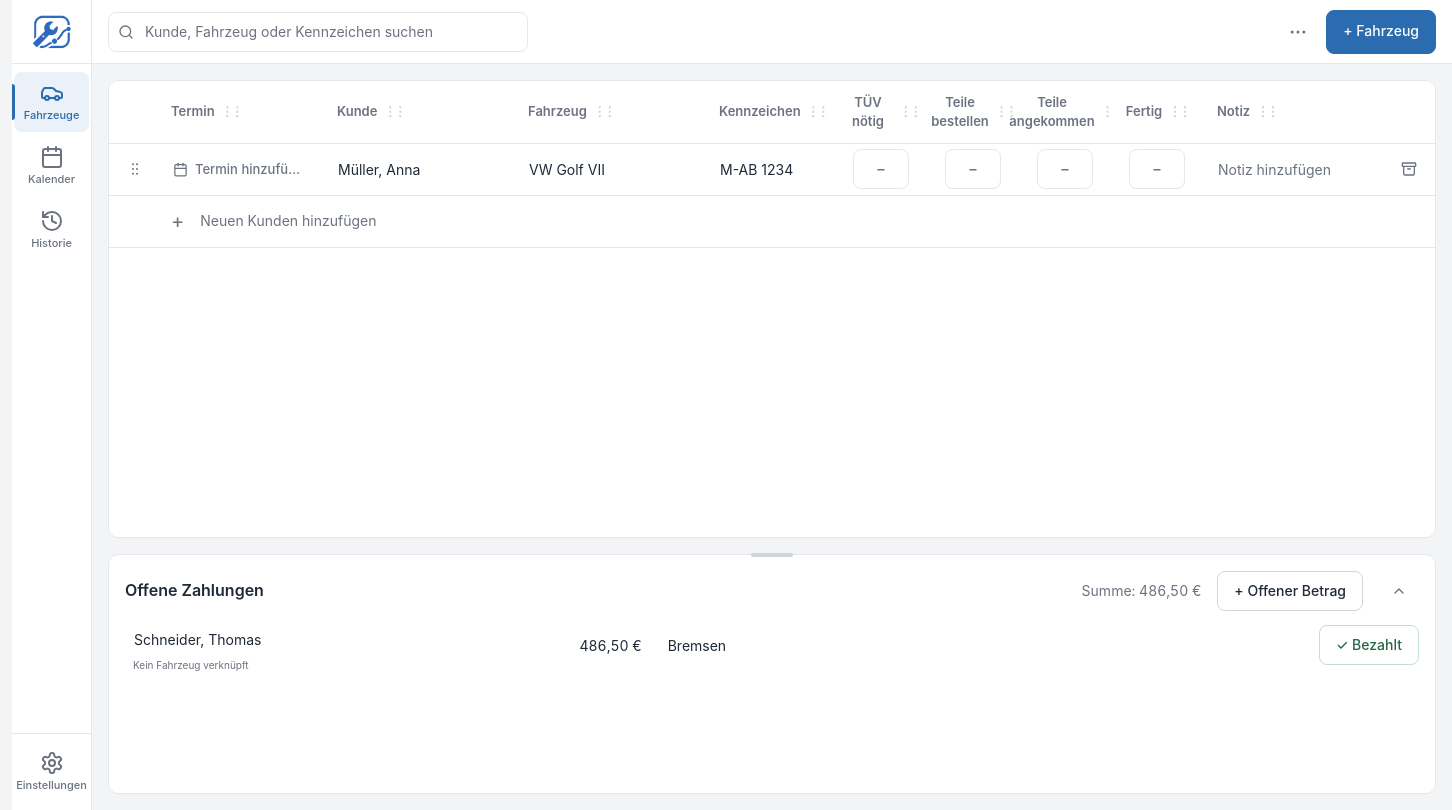
Test: Versteckter Bereich: Einträge › zeigt vorhandene Einträge entschlüsselt an
The image size is (1452, 810).
Check: the field showing "Müller, Anna" is shown, box [329, 149, 508, 189]
Press the mouse on the element with class "app-logo" at (52, 32), box [32, 12, 72, 52]
Wait 3000 ms
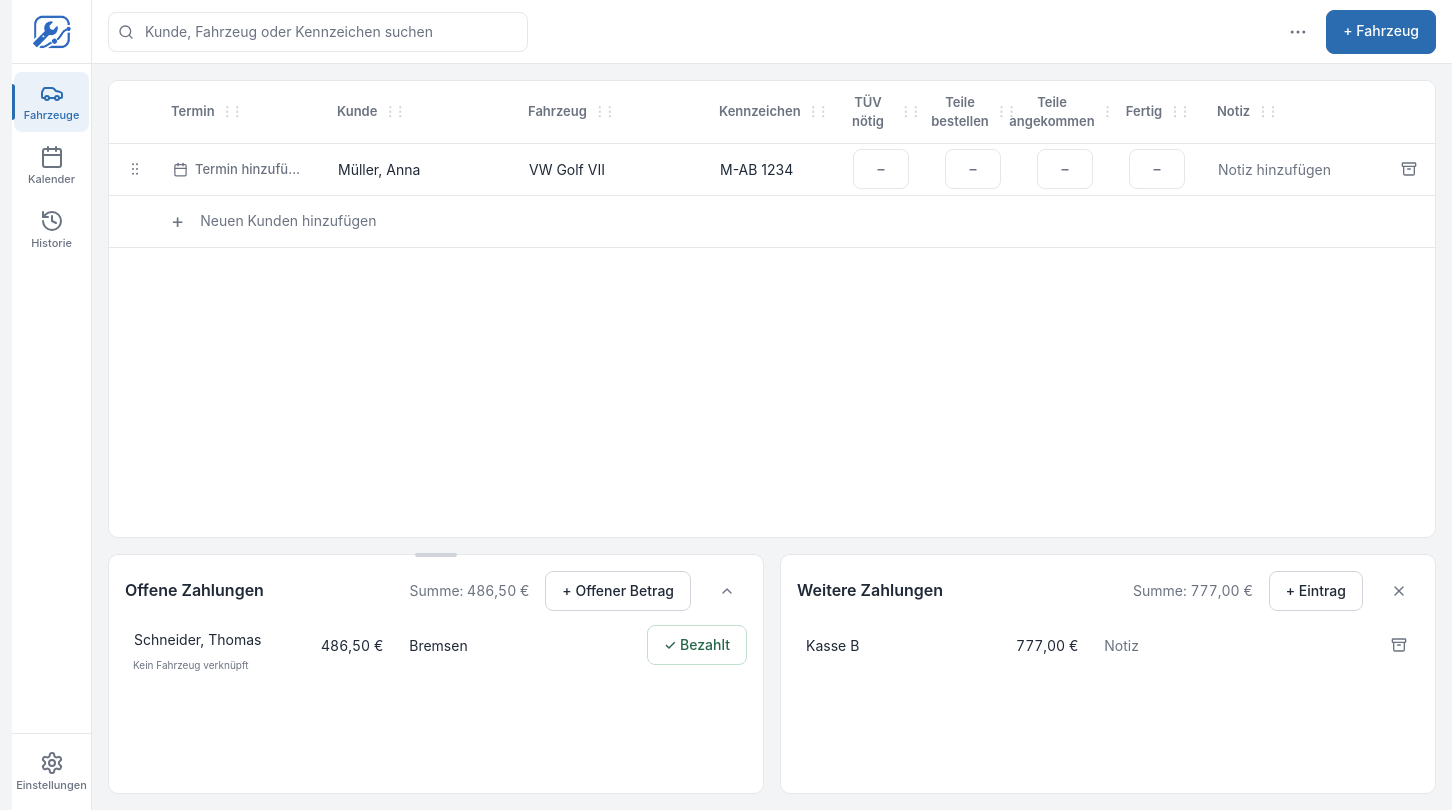
Check: the element "Weitere Zahlungen" is shown, box [780, 554, 1436, 794]
Check: the dropdown showing "Kasse B" is shown, box [797, 625, 969, 665]
